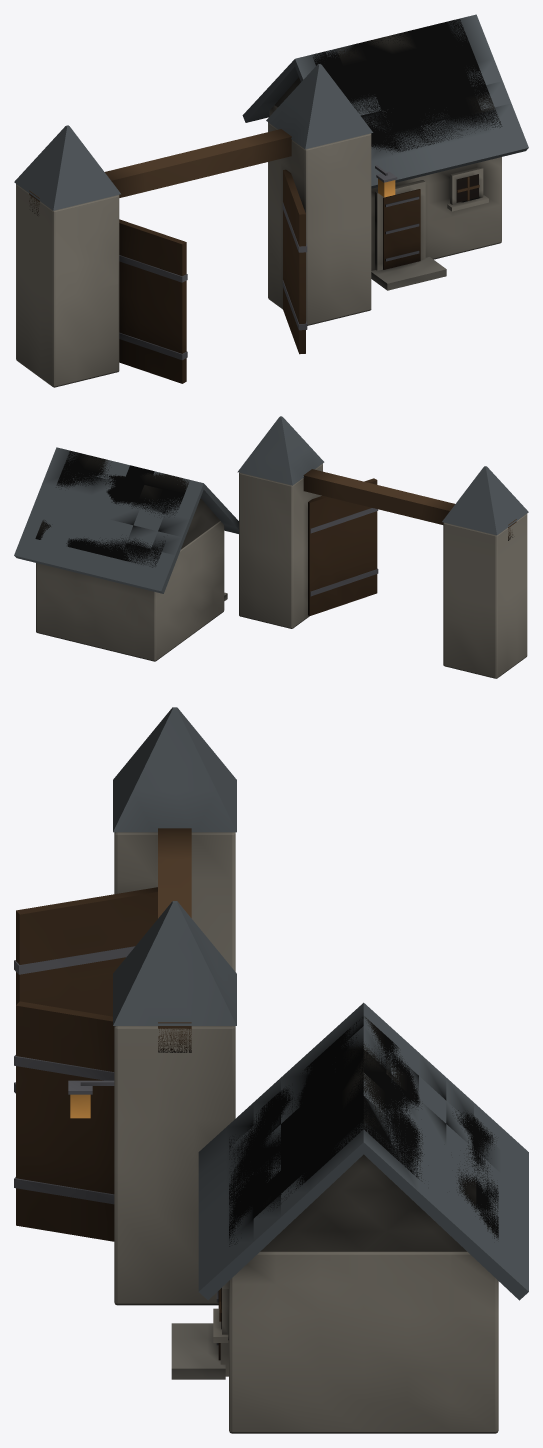
Rendered from bree_gate.glb.
3 renders of one model, top to bottom at view 1: azimuth 30°, elevation 25°; view 2: azimuth 150°, elevation 25°; view 3: azimuth 270°, elevation 25°, orthographic. The views are drawn at different scales.
Parts seen in each view (by area): view 1: bree_gate; view 2: bree_gate; view 3: bree_gate.
Boxes of the visible parts, x1,y1,x2,y2 form: bree_gate: [14, 14, 528, 387]; bree_gate: [14, 416, 528, 678]; bree_gate: [14, 707, 528, 1433].
Bounding box in the file's own units: 13.57 × 6.25 × 7.64.
